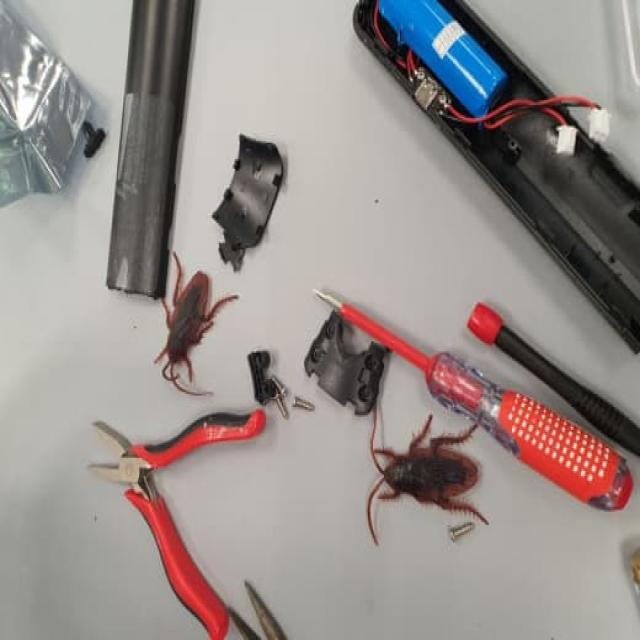Cockroach: (366, 397, 491, 545), (151, 245, 239, 392)
